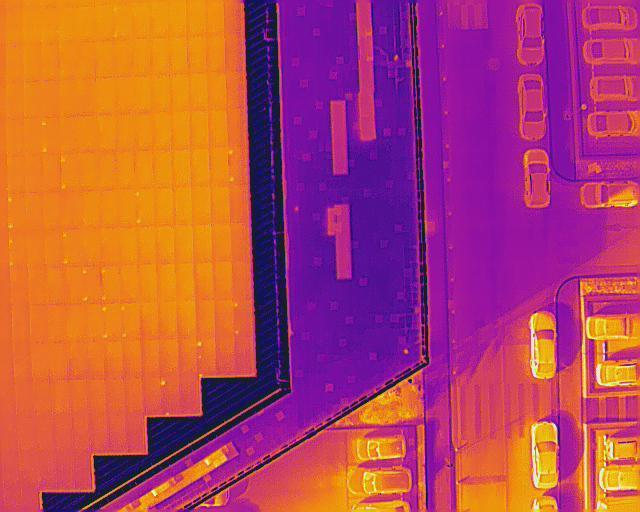Cell-Multi: (120, 302, 141, 339), (228, 146, 247, 186), (233, 300, 252, 340), (160, 378, 179, 417), (136, 186, 154, 227), (7, 191, 26, 229), (60, 152, 79, 189), (102, 303, 121, 340), (197, 339, 216, 376), (101, 264, 119, 303), (63, 229, 82, 265), (41, 117, 59, 154), (82, 265, 100, 301)
No-Anomaly: (153, 186, 175, 226), (116, 225, 137, 264), (175, 263, 196, 301), (130, 0, 150, 39), (187, 72, 207, 111), (140, 339, 160, 378), (193, 263, 214, 300), (172, 148, 191, 188), (115, 150, 135, 188), (79, 151, 99, 189), (18, 452, 38, 490), (224, 36, 244, 74), (112, 39, 132, 77), (131, 76, 151, 114), (77, 77, 97, 115), (232, 261, 251, 301), (118, 264, 138, 302), (27, 265, 47, 303), (196, 301, 216, 339), (157, 301, 177, 339), (159, 340, 179, 378), (153, 148, 172, 187), (112, 0, 131, 39), (173, 186, 192, 225), (193, 187, 212, 226), (136, 225, 155, 264), (177, 301, 196, 340), (208, 110, 228, 147), (80, 189, 100, 226), (192, 226, 212, 263), (37, 453, 57, 490), (78, 114, 98, 151), (74, 40, 94, 77), (139, 302, 159, 339), (13, 340, 33, 377), (121, 340, 141, 377), (88, 378, 108, 415), (125, 416, 145, 453), (168, 0, 187, 38), (230, 186, 249, 224), (211, 187, 230, 225), (116, 188, 135, 226), (26, 190, 45, 228), (155, 225, 174, 263), (131, 39, 150, 77), (93, 40, 112, 78), (22, 43, 41, 81), (151, 74, 170, 112), (114, 77, 133, 115), (99, 227, 118, 265), (157, 263, 176, 301), (138, 264, 157, 302), (215, 339, 234, 377), (210, 147, 228, 187), (75, 5, 95, 41), (169, 76, 189, 112), (234, 340, 254, 376), (69, 339, 87, 379), (18, 416, 39, 450), (227, 109, 246, 146), (153, 112, 172, 149), (172, 113, 191, 150), (5, 119, 24, 156), (23, 6, 42, 43), (207, 73, 226, 110), (35, 379, 54, 416), (98, 149, 116, 188), (44, 190, 62, 229), (175, 225, 193, 264), (150, 37, 168, 76), (34, 339, 52, 378), (104, 339, 122, 378), (17, 378, 35, 417), (49, 303, 69, 338), (88, 417, 108, 452), (190, 112, 209, 148), (98, 113, 116, 151), (191, 149, 209, 187), (186, 0, 205, 36), (62, 190, 80, 228), (5, 6, 23, 44), (231, 225, 250, 261), (213, 225, 232, 261), (56, 453, 75, 489), (99, 188, 117, 226), (207, 35, 225, 73), (226, 73, 245, 109), (41, 79, 59, 117), (81, 226, 99, 264), (214, 262, 232, 300), (10, 266, 28, 304), (178, 340, 197, 376), (179, 377, 198, 413), (142, 377, 160, 415), (109, 415, 127, 453), (6, 82, 24, 119), (134, 113, 152, 150), (135, 149, 153, 186), (25, 154, 43, 191), (150, 0, 168, 37), (168, 38, 186, 75), (27, 228, 45, 265), (9, 230, 27, 267), (47, 265, 65, 302), (215, 300, 233, 337), (108, 379, 126, 416), (72, 416, 90, 453), (73, 452, 91, 489), (6, 156, 25, 191), (187, 37, 206, 72), (96, 78, 115, 113), (30, 303, 49, 338), (5, 43, 22, 82), (87, 339, 104, 378), (52, 339, 69, 378), (116, 114, 134, 150), (60, 117, 78, 153), (225, 0, 243, 36), (23, 81, 41, 117), (205, 0, 224, 34), (41, 42, 58, 80), (125, 377, 142, 415), (45, 229, 63, 264), (24, 117, 41, 154), (43, 153, 60, 190), (59, 78, 76, 115), (65, 265, 82, 302), (68, 302, 85, 339), (94, 5, 111, 41), (58, 6, 76, 40), (85, 302, 102, 338), (12, 303, 29, 339), (54, 379, 71, 415), (56, 415, 73, 451), (41, 6, 58, 41), (38, 416, 55, 451), (59, 41, 75, 78), (71, 379, 87, 416)
